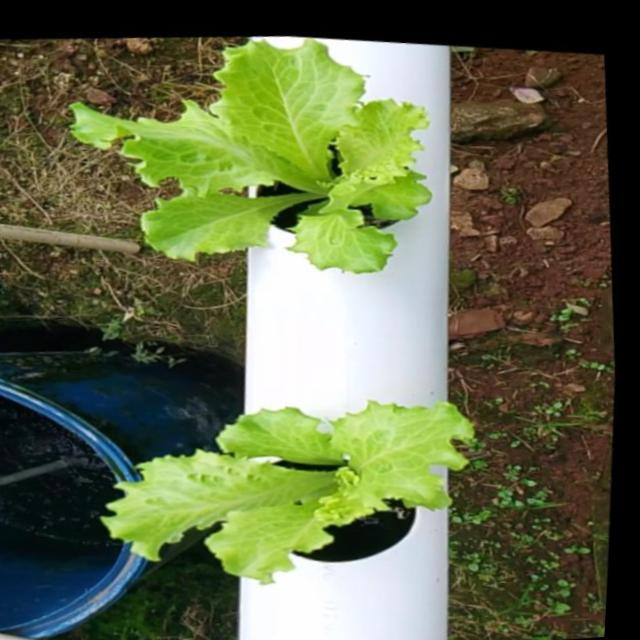Baby: (67, 39, 428, 277), (98, 410, 472, 593)
